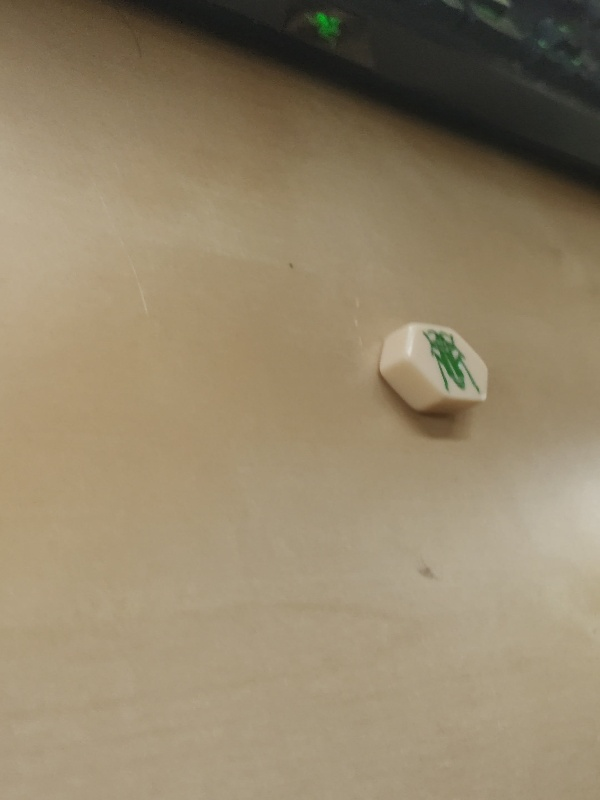white_grasshopper: (379, 318, 499, 423)
